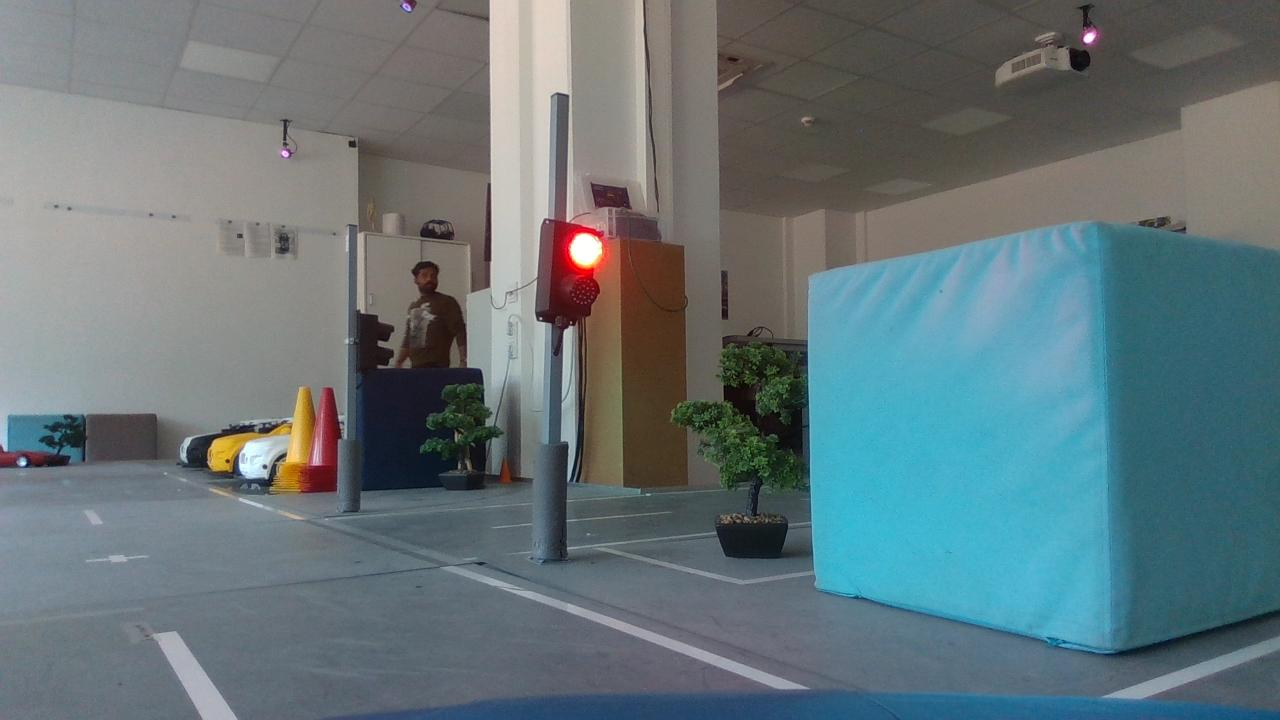traffic_light_red: (519, 200, 620, 345)
